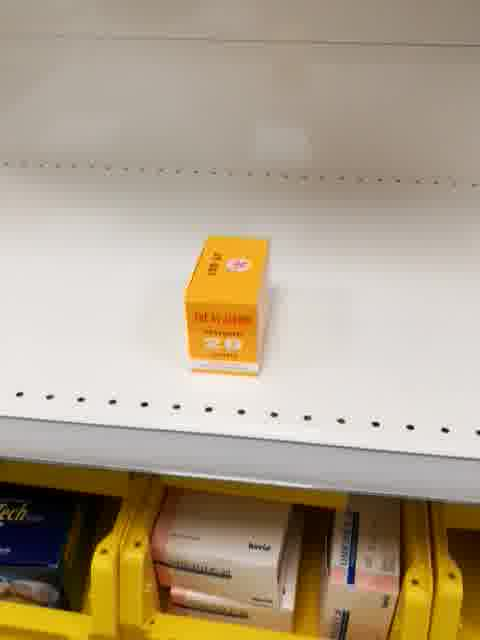jasminetea: (181, 233, 272, 378)
